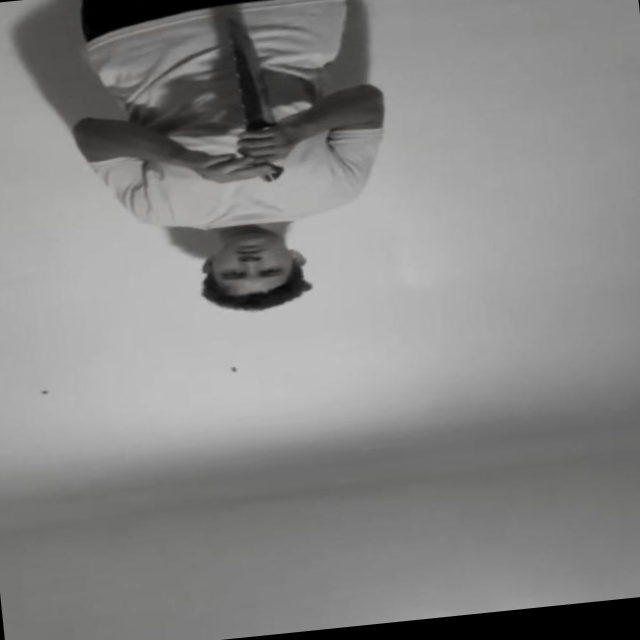Sharp-Object: (224, 18, 275, 130)
